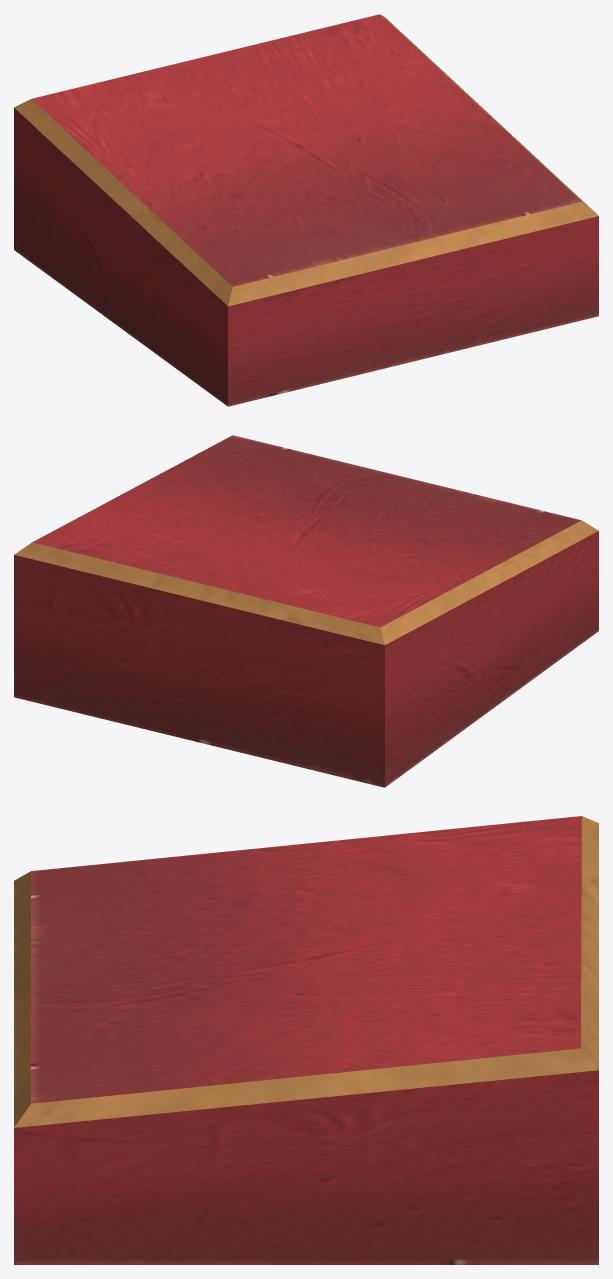
File: polygonalmind-lunar-year-010.glb
The picture shows the model from 3 angles, top to bottom: view 1: azimuth 30°, elevation 25°; view 2: azimuth 150°, elevation 25°; view 3: azimuth 270°, elevation 25°; orthographic projection. The views are drawn at different scales.
Visible parts, largest first — view 1: Cushion; view 2: Cushion; view 3: Cushion.
Boxes of the visible parts, <box> form: Cushion: <box>14,14,598,406</box>; Cushion: <box>14,435,598,787</box>; Cushion: <box>14,816,598,1264</box>.
Bounding box in the file's own units: 0.3756 × 0.1481 × 0.3756.
2 materials, 2 textured.
